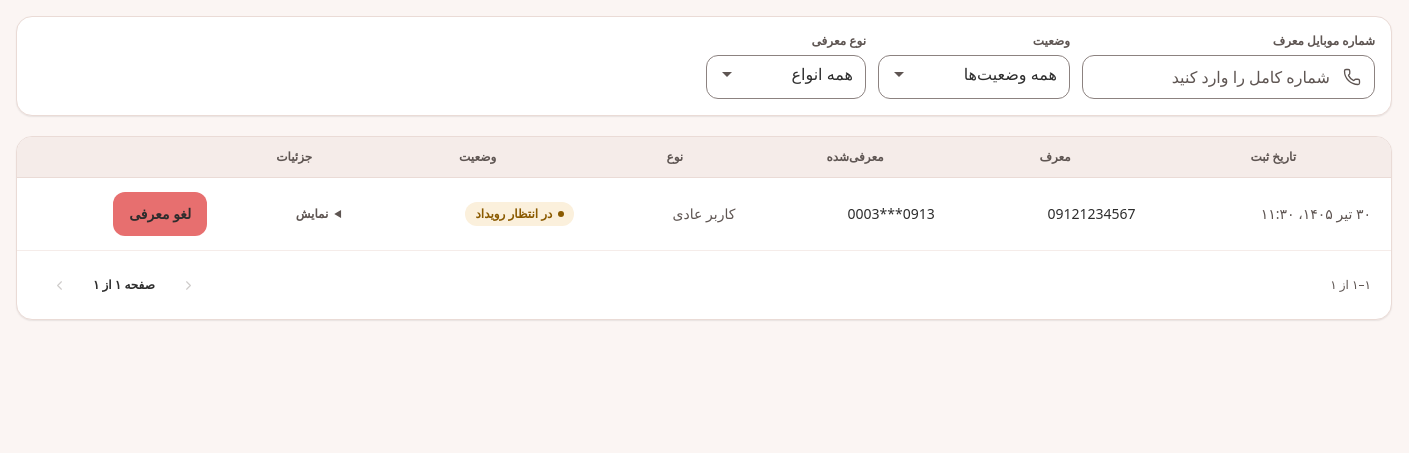
Test case: ReferralsView › cancels a referral and reflects the new status/reason in the row without a reload
Click the button with test id "cancel-referral-button" at [160, 214], box 113,192 -> 207,236
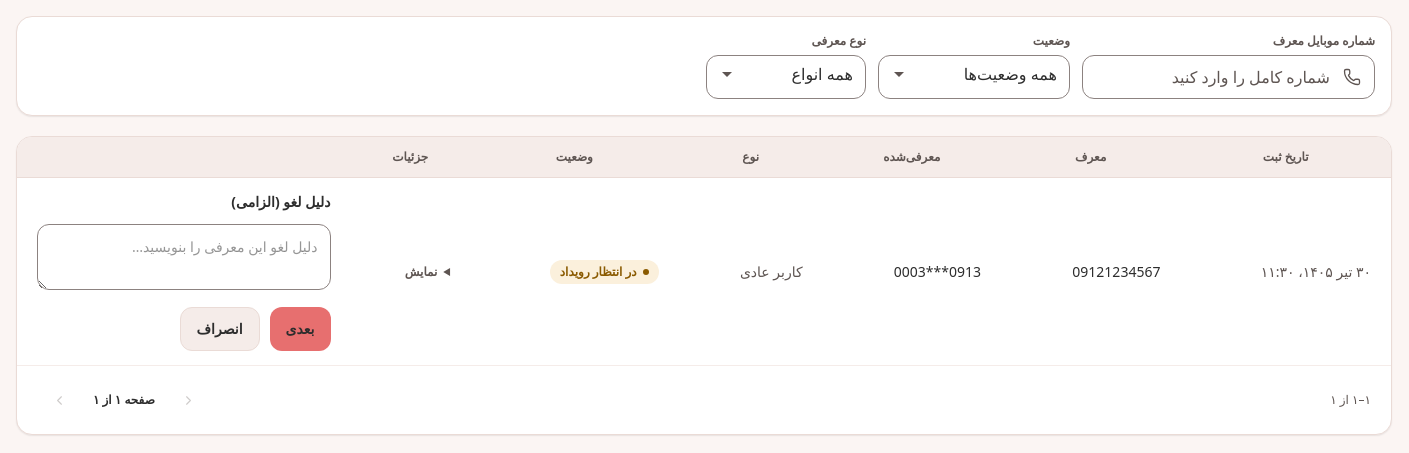
Type "fraud suspected" into the text box with test id "cancel-reason-input" at [184, 257], box 37,224 -> 330,290
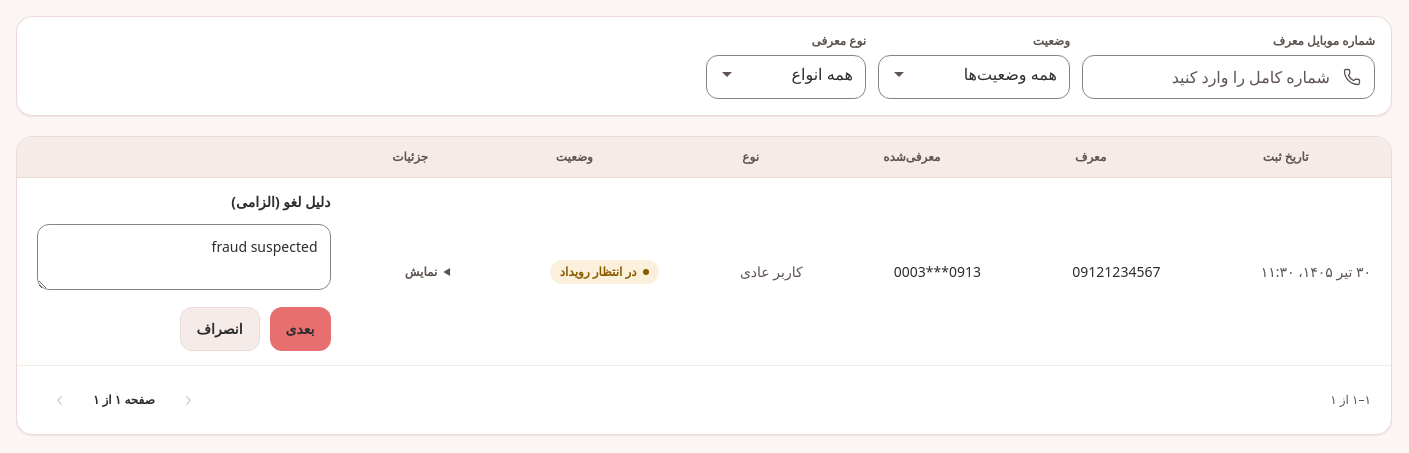
Click the button with test id "cancel-referral-submit" at [300, 329], box 270,307 -> 331,351
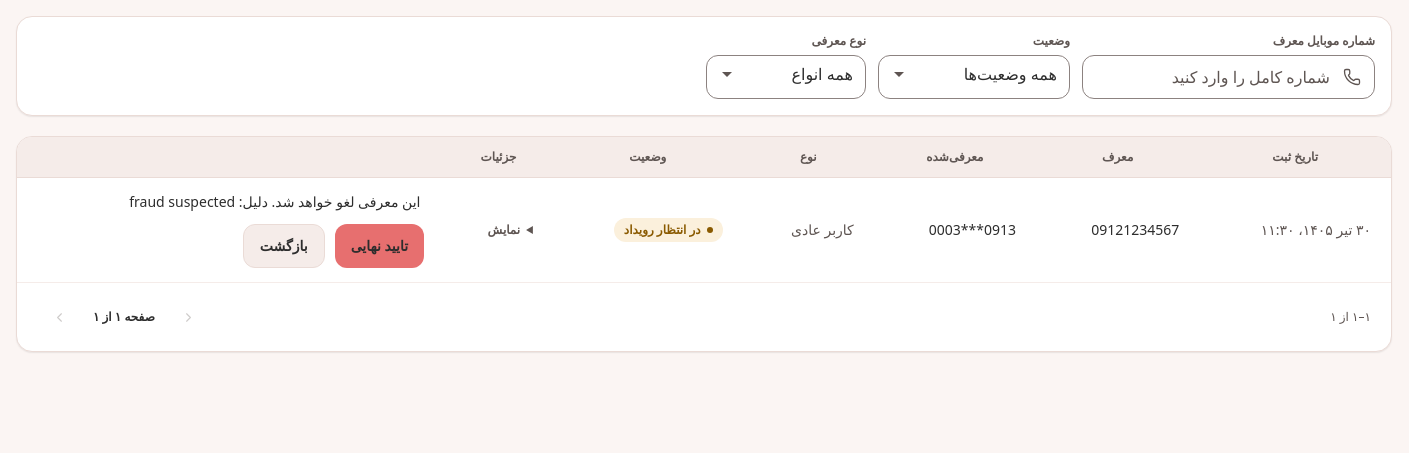
Click the button with test id "cancel-referral-confirm" at [379, 246], box 335,224 -> 424,268
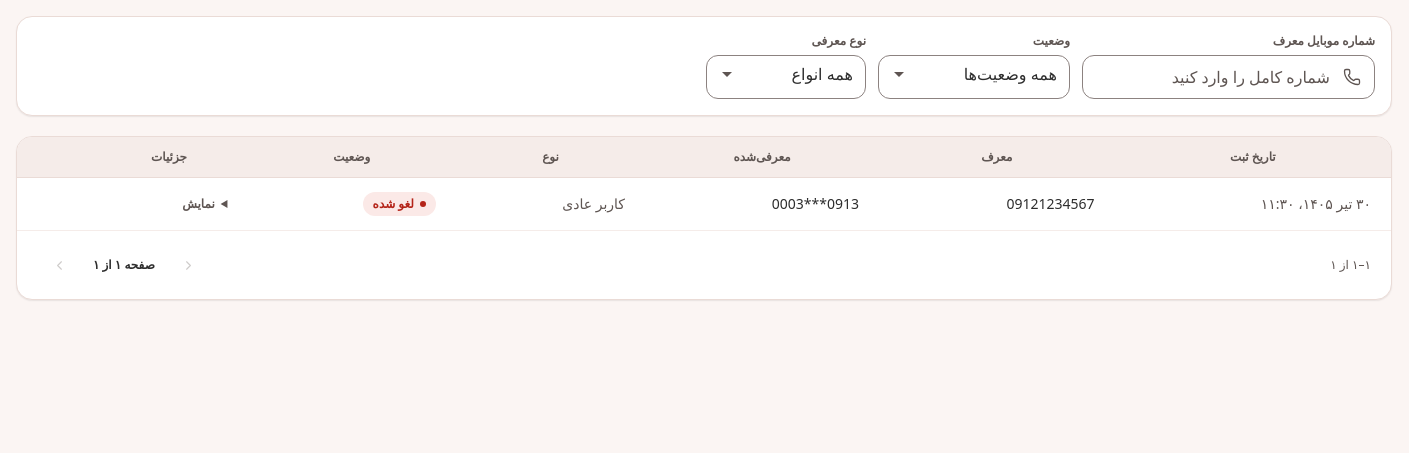
Expected: the text "لغو شده" is shown, 363,192 -> 436,216
